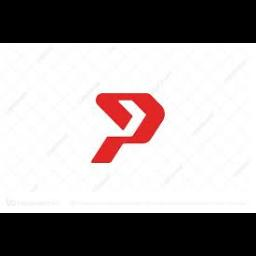p: (87, 88, 169, 168)
